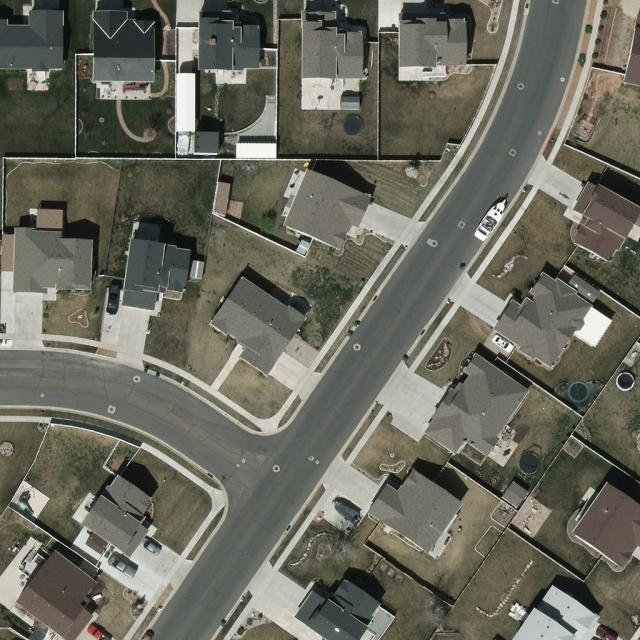vehicle: (106, 554, 138, 580), (107, 284, 122, 315), (138, 539, 162, 557), (86, 624, 112, 640), (492, 334, 515, 352), (594, 626, 618, 640)
